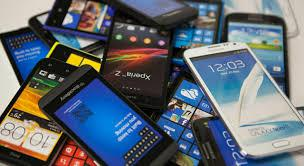Smartphone: (185, 44, 300, 157), (0, 62, 83, 166), (62, 74, 150, 166), (96, 28, 169, 119), (224, 13, 290, 103), (158, 72, 214, 163), (178, 0, 222, 65), (42, 0, 132, 31), (42, 3, 112, 41), (9, 29, 53, 81), (102, 0, 196, 20)
